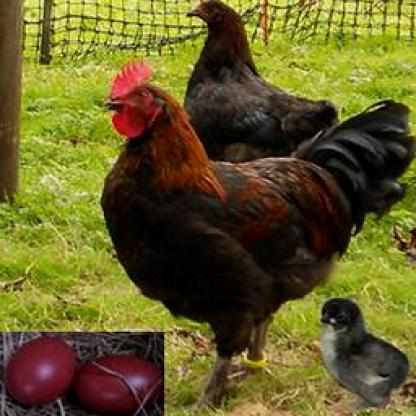chicken: (99, 62, 411, 404), (170, 0, 339, 160), (312, 298, 415, 415)
